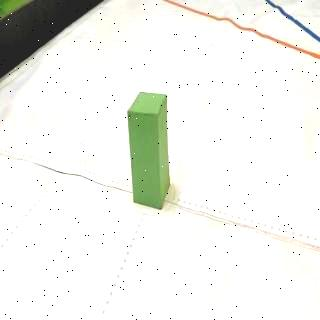greenbox: (126, 90, 172, 212)
